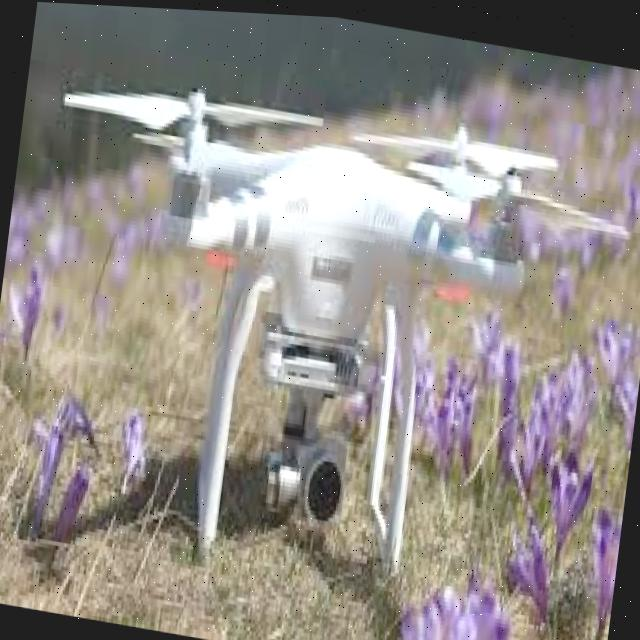drone: (3, 0, 637, 623)
